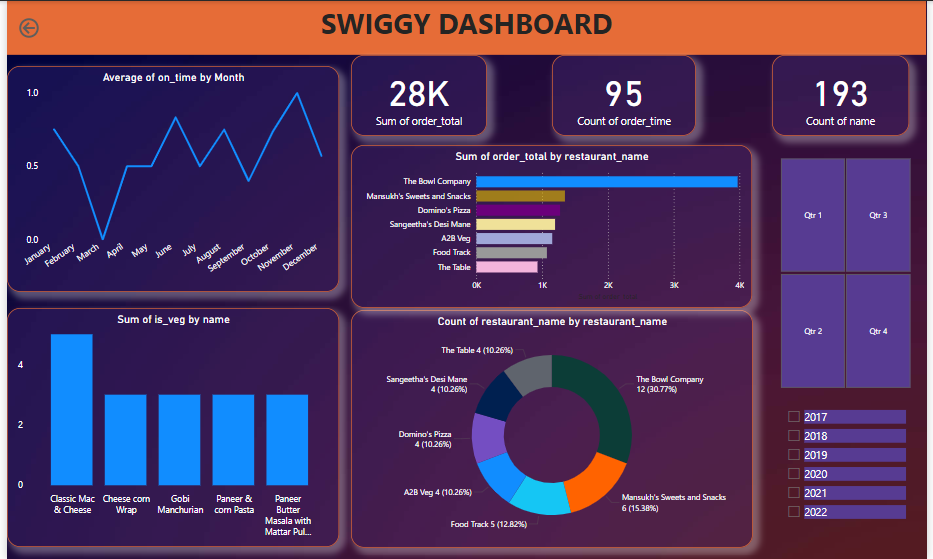

The page's visual inventory and layout, read from the dashboard file:
{"tool":"powerbi","page":{"name":"Page 1","canvas":[1400,850],"ordinal":0},"visuals":[{"type":"textbox","box":[0,0,1399.9,82.3],"z":0},{"type":"lineChart","fields":{"Y":["Avg(orders.on_time)"],"Category":["orders.order_time.Variation.Date Hierarchy.Month"]},"box":[0,82.3,505.7,344.3],"z":1000},{"type":"card","fields":{"Values":["Sum(orders.order_total)"]},"box":[524,82.3,207.2,123.4],"z":2000},{"type":"actionButton","box":[0,0,100,40],"z":3000},{"type":"card","fields":{"Values":["CountNonNull(orders.order_time)"]},"box":[830.2,82.3,219.4,123.4],"z":4000},{"type":"columnChart","fields":{"Category":["items.name"],"Y":["Sum(items.is_veg)"]},"box":[0,467.7,505.7,364.1],"z":5000},{"type":"card","fields":{"Values":["CountNonNull(items.name)"]},"box":[1165.3,82.3,208.7,123.4],"z":6000},{"type":"donutChart","fields":{"Category":["orders.restaurant_name"],"Y":["CountNonNull(orders.restaurant_name)"]},"box":[523.6,470.3,611.8,361.9],"z":7000},{"type":"slicer","fields":{"Values":["orders.order_time.Variation.Date Hierarchy.Quarter"]},"box":[1153.1,233.1,246.8,362.5],"z":8000},{"type":"slicer","fields":{"Values":["orders.order_time.Variation.Date Hierarchy.Year"]},"box":[1177.5,613.9,196.5,236.1],"z":8001},{"type":"barChart","fields":{"Y":["Sum(orders.order_total)"],"Category":["orders.restaurant_name"]},"box":[524,219.4,610.8,248.3],"z":8002}]}

Visuals, with their boxes in screenshot pixels (x1, y1, x2, y2), scaled from the page's 1400x850 canvas onto the 933x559 screenshot:
textbox: detection(0, 0, 932, 54)
lineChart - Avg(orders.on_time) x orders.order_time.Variation.Date Hierarchy.Month: detection(0, 54, 337, 281)
card - Sum(orders.order_total): detection(349, 54, 487, 135)
actionButton: detection(0, 0, 67, 26)
card - CountNonNull(orders.order_time): detection(553, 54, 699, 135)
columnChart - items.name x Sum(items.is_veg): detection(0, 308, 337, 547)
card - CountNonNull(items.name): detection(777, 54, 916, 135)
donutChart - orders.restaurant_name x CountNonNull(orders.restaurant_name): detection(349, 309, 757, 547)
slicer - orders.order_time.Variation.Date Hierarchy.Quarter: detection(768, 153, 932, 392)
slicer - orders.order_time.Variation.Date Hierarchy.Year: detection(785, 404, 916, 558)
barChart - Sum(orders.order_total) x orders.restaurant_name: detection(349, 144, 756, 308)
